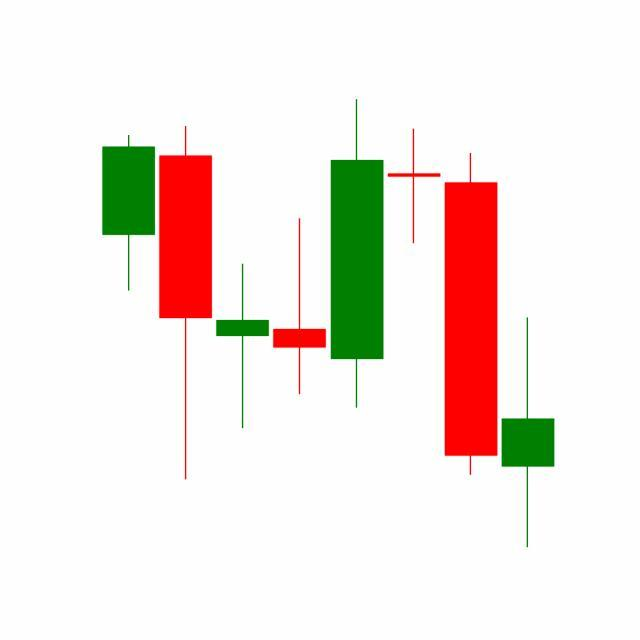Three Inside Up-Down: (328, 100, 500, 481)
